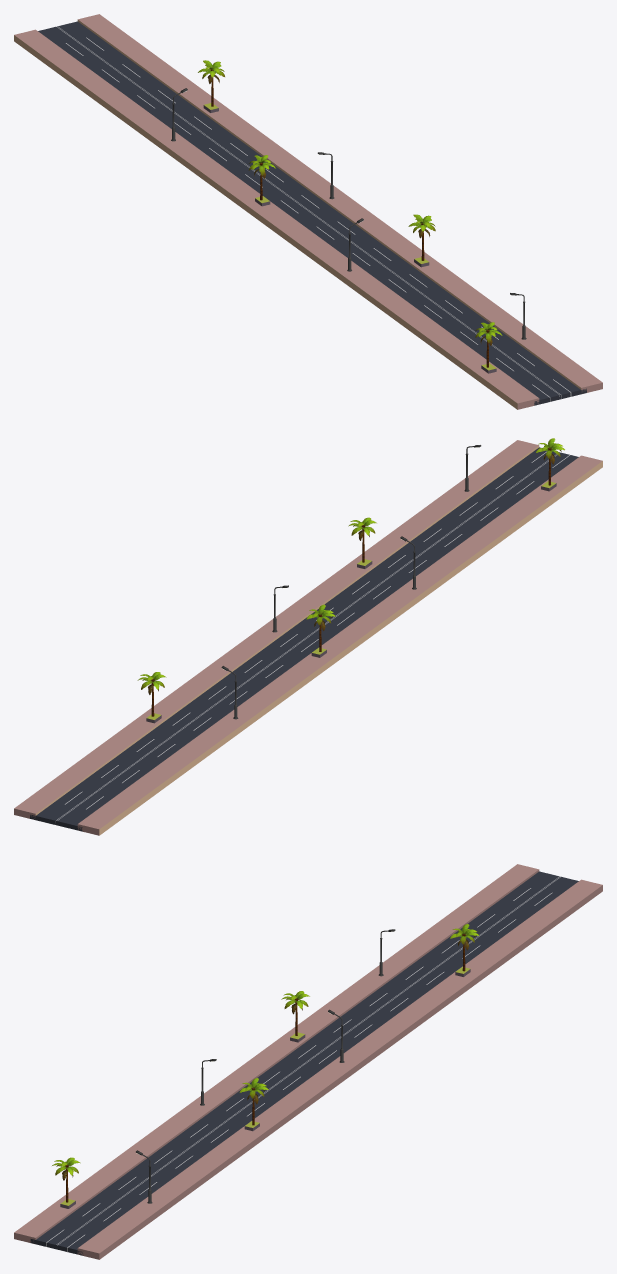
Rendered from Asphalt.glb.
The picture shows the model from 3 angles, top to bottom: view 1: azimuth 30°, elevation 25°; view 2: azimuth 150°, elevation 25°; view 3: azimuth 330°, elevation 25°; orthographic projection.
Parts seen in each view (by area): view 1: Cube.745, Cube.779, Cube.746; view 2: Cube.745, Cube.779, Cube.746; view 3: Cube.745, Cube.746, Cube.779.
Boxes of the visible parts, x1,y1,x2,y2 form: Cube.745: [38, 21, 586, 405]; Cube.779: [14, 29, 539, 409]; Cube.746: [77, 14, 602, 393]; Cube.745: [30, 447, 578, 831]; Cube.779: [77, 455, 602, 835]; Cube.746: [14, 440, 539, 819]; Cube.745: [30, 871, 578, 1255]; Cube.746: [77, 879, 602, 1259]; Cube.779: [14, 864, 539, 1243].
Bounding box in the file's own units: 20.68 × 12.7 × 210.
Materials: 8 (1 with a texture image).
